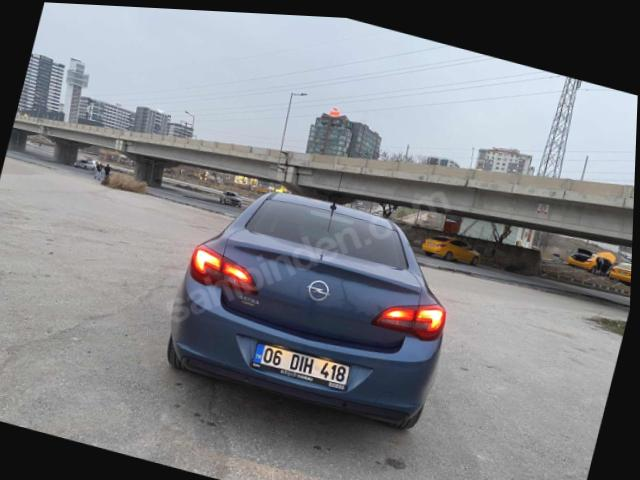plaka: (252, 343, 350, 390)
